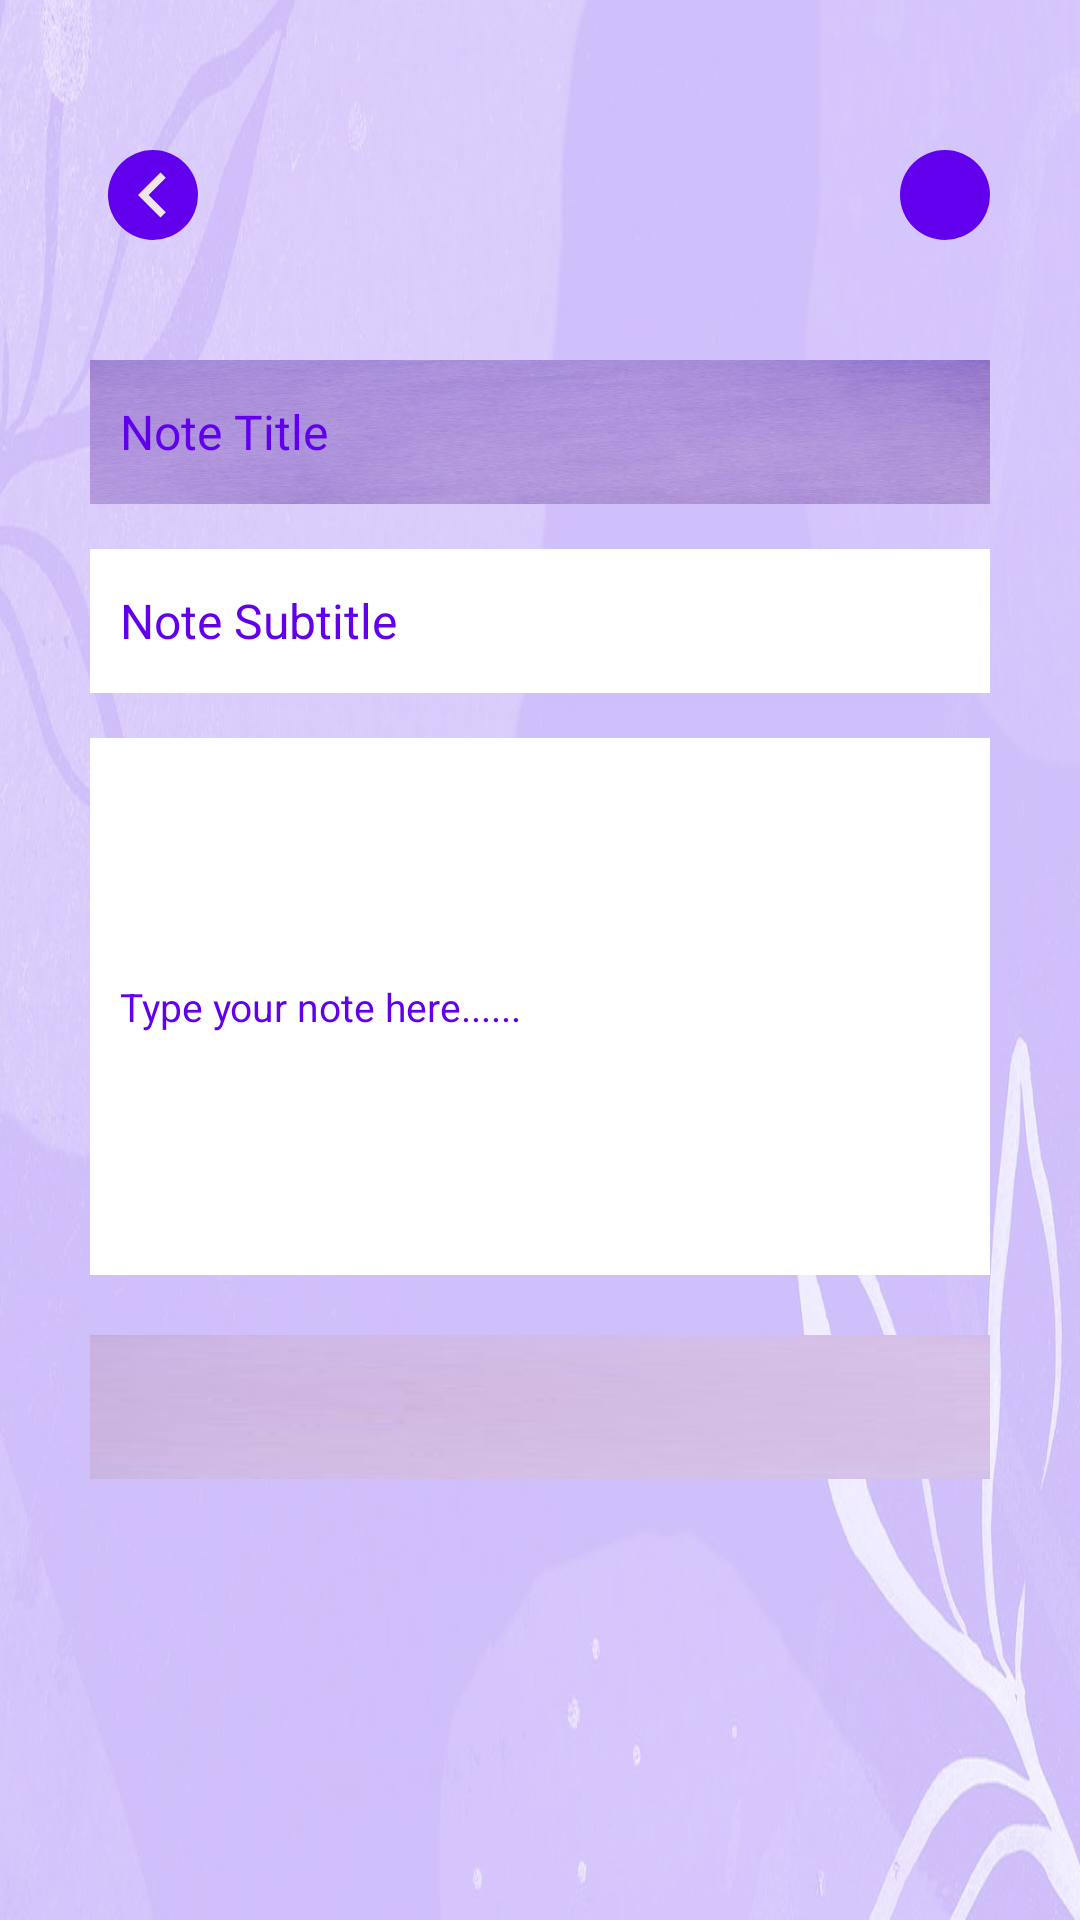

Screen size 1080px×1920px. Icon name, then its center in pixels as (x=x, y=y):
back: (x=153, y=195)
